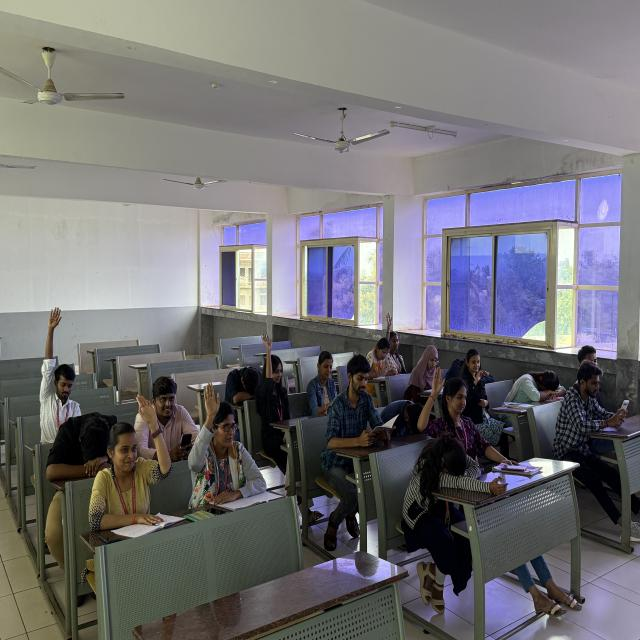Hand Rising: (96, 390, 170, 523), (192, 376, 266, 509), (36, 301, 92, 432), (256, 325, 298, 439), (418, 361, 469, 448), (384, 308, 404, 362)
Reading: (331, 353, 400, 458), (367, 334, 399, 382)
Sleeping: (45, 409, 124, 484), (410, 434, 485, 508), (506, 367, 569, 411), (223, 364, 266, 405)
Using Phone: (566, 358, 635, 449), (138, 373, 205, 457)
